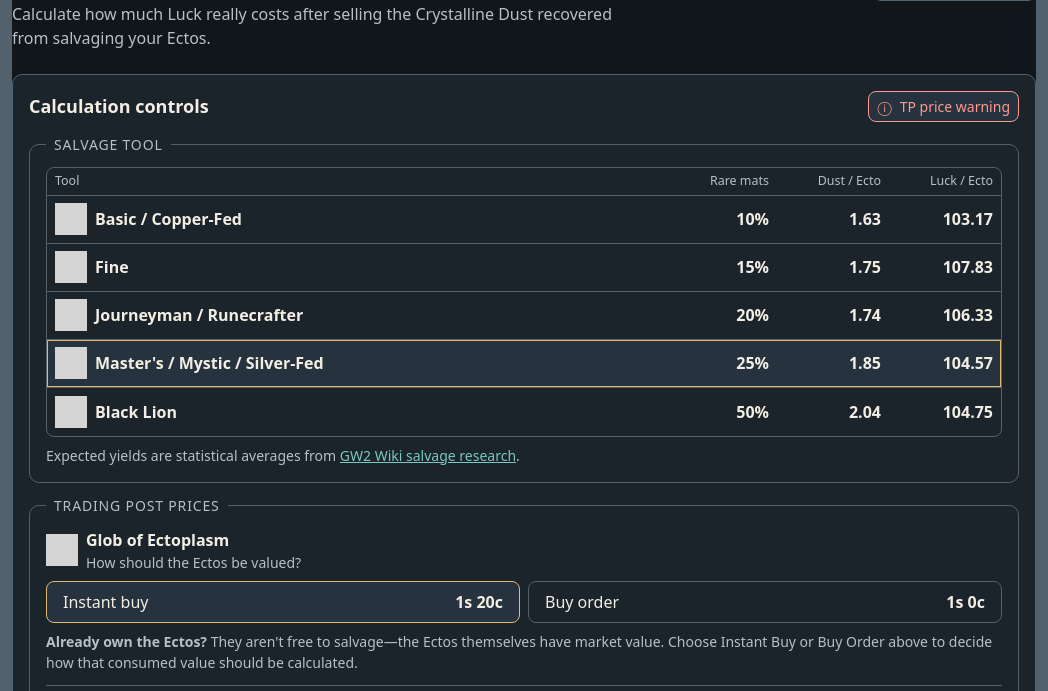
Test: EctoSalvageScreen › keeps Black Lion Gem cost separate from the effective coin cost
Step 1. Click the button with class "salvage-row" showing "Black Lion 50% 2.04 104.75" → (71, 412), box [47,388,1001,436]
(page scrolled)
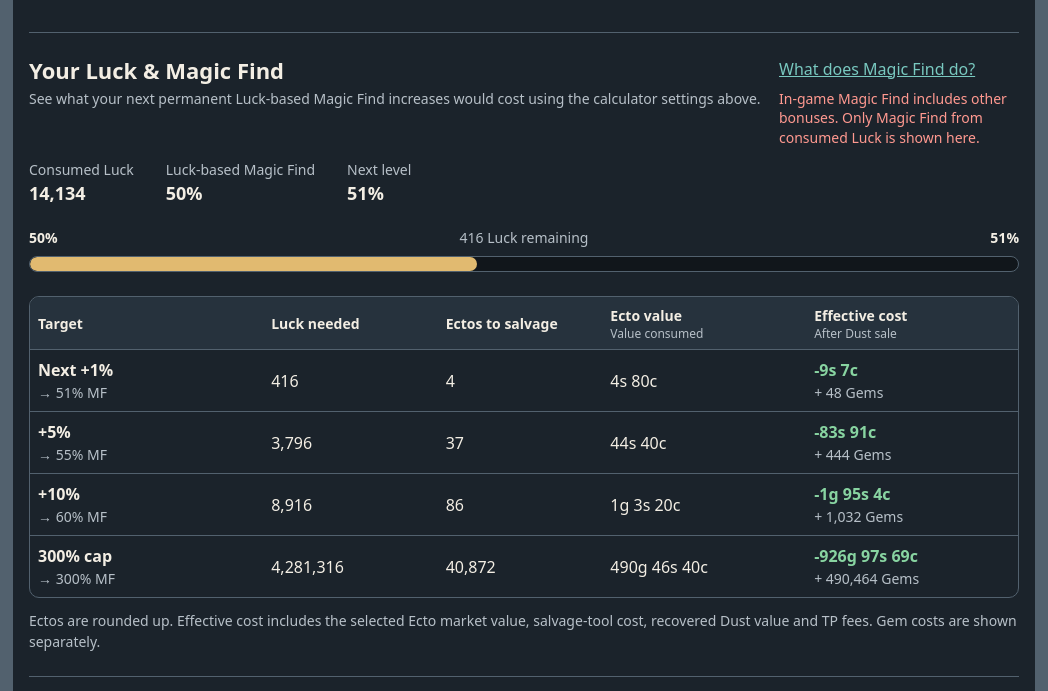
Expected: the text "Gems" is not shown
Now the text "+ 48 Gems" is shown, box [814,383,883,402]
